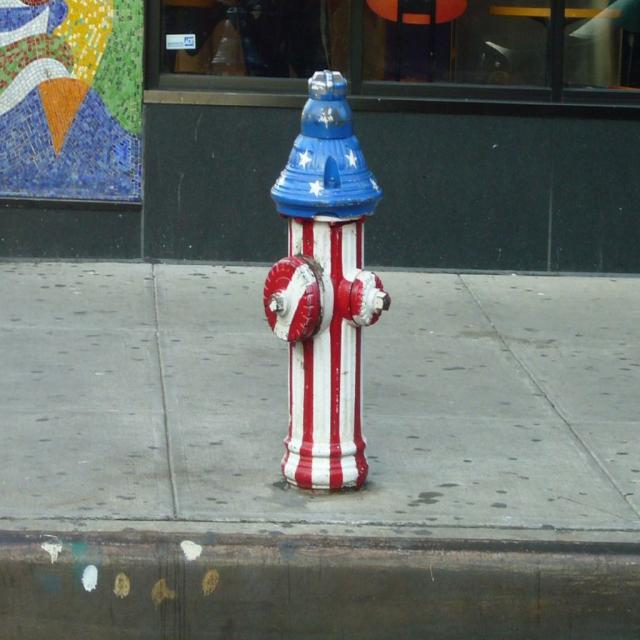fire_hydrant: (262, 64, 391, 489)
